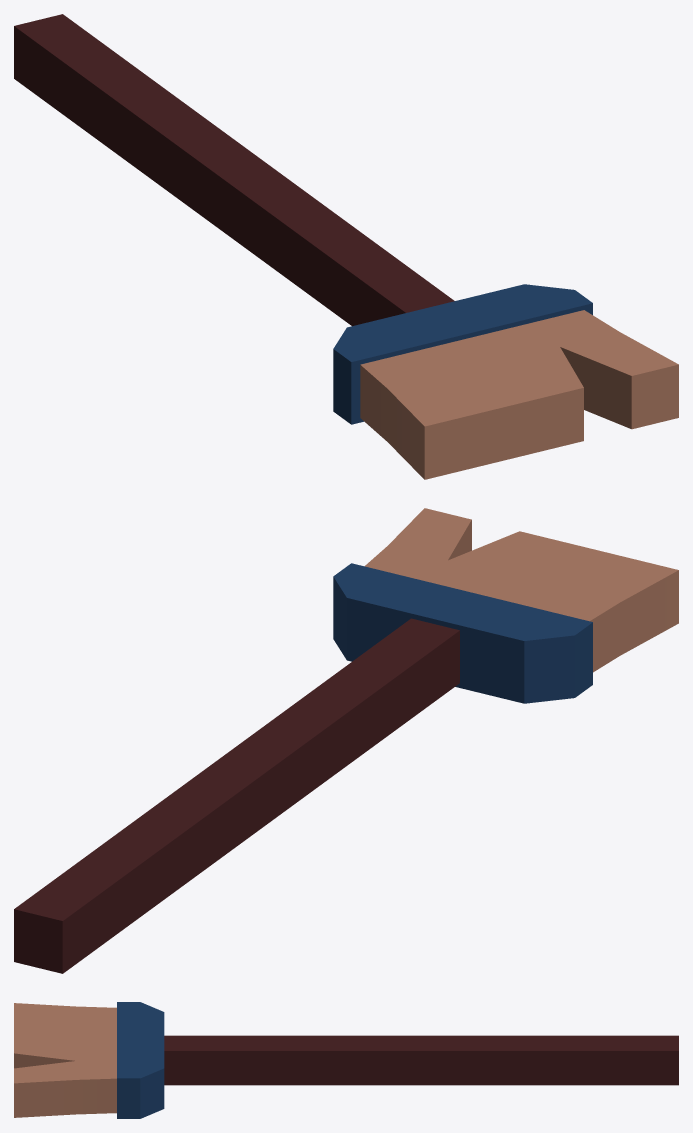
File: Broom 01.FBX
The picture shows the model from 3 angles, top to bottom: view 1: azimuth 30°, elevation 25°; view 2: azimuth 150°, elevation 25°; view 3: azimuth 270°, elevation 25°; orthographic projection. The views are drawn at different scales.
Parts seen in each view (by area): view 1: Broom 01; view 2: Broom 01; view 3: Broom 01.
Boxes of the visible parts, x1,y1,x2,y2 form: Broom 01: (14,14,678,479); Broom 01: (14,508,678,973); Broom 01: (14,1002,678,1118).
Size of the model in its own units: 40.88 by 9.62 by 143.
1 material, 1 textured.
